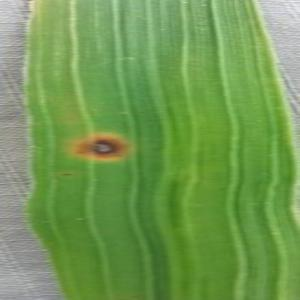Brown_Spot: (65, 129, 133, 166), (57, 170, 76, 181)
